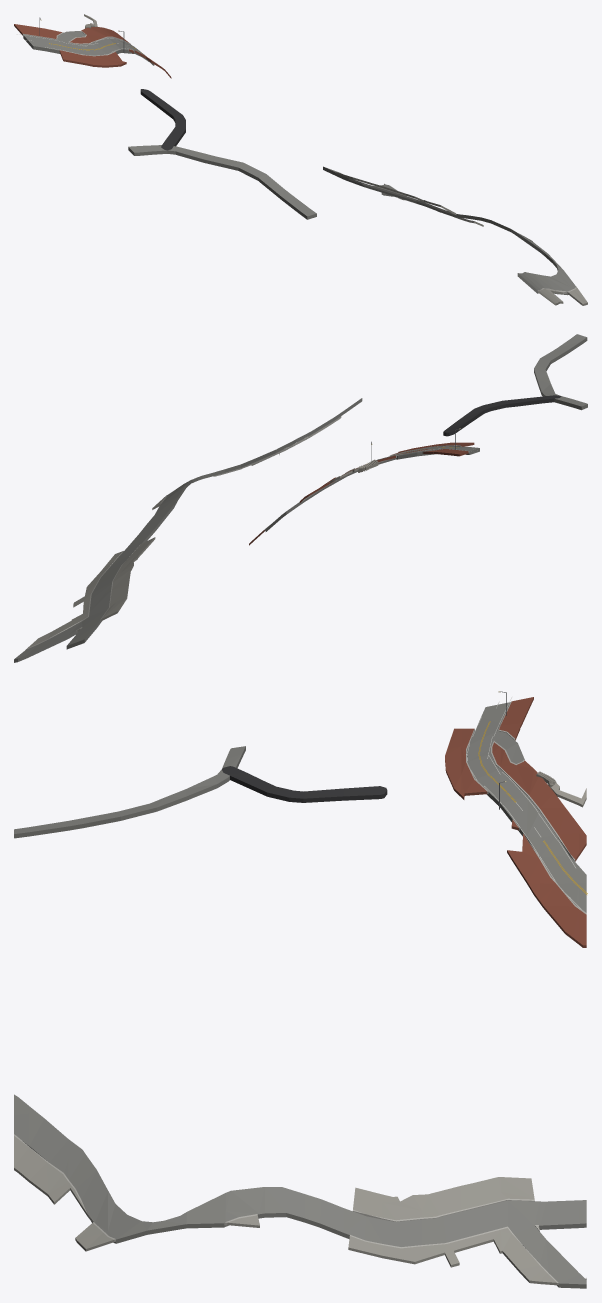
3 views of the same model, one above another, from view 1: azimuth 30°, elevation 25°; view 2: azimuth 150°, elevation 25°; view 3: azimuth 270°, elevation 25° (orthographic). The views are drawn at different scales.
Size of the model in its own units: 149 by 102 by 146.
